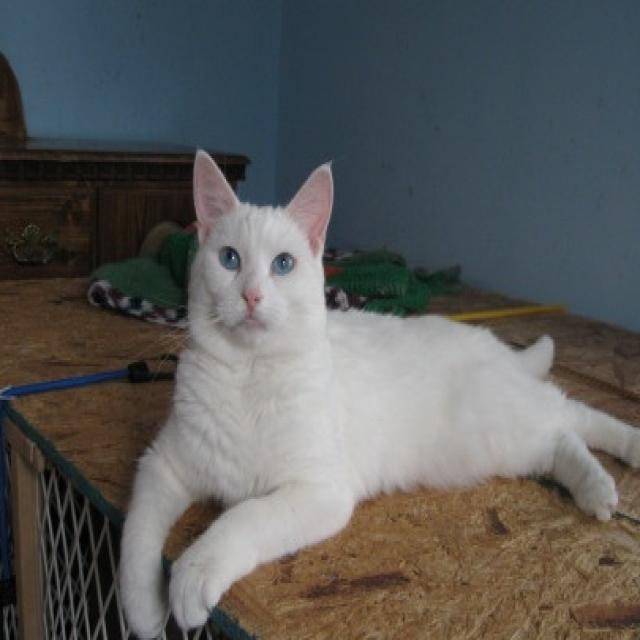Khao Manee: (112, 141, 640, 640)
